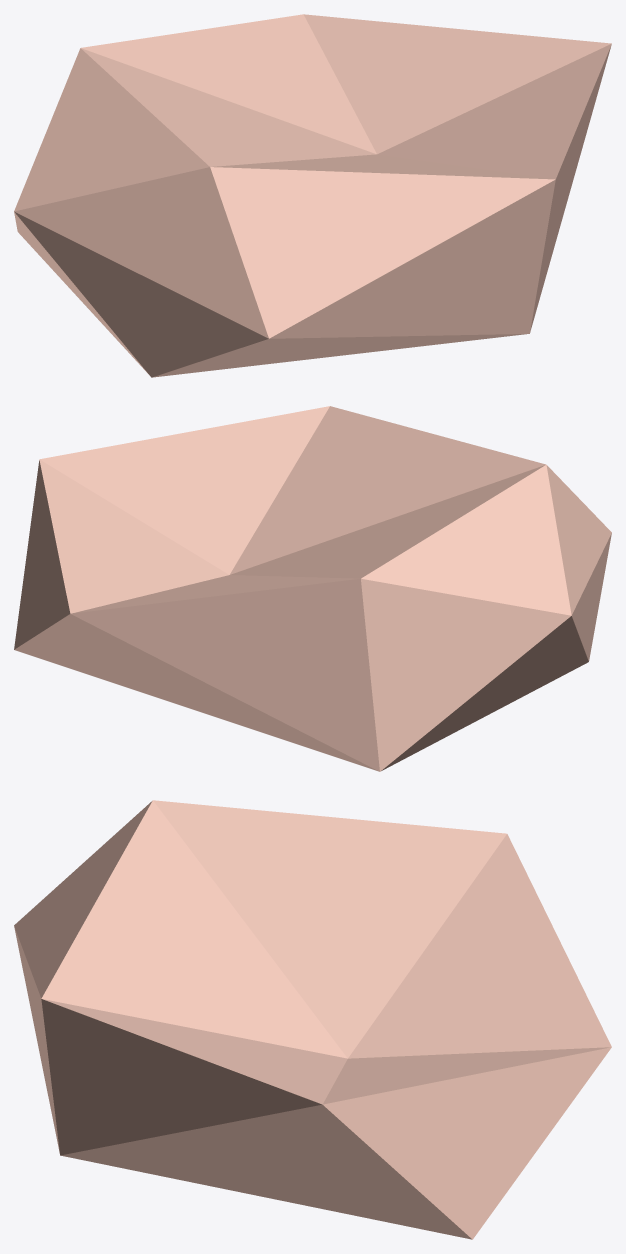
Rendered from Dough.fbx.
3 renders of one model, top to bottom at view 1: azimuth 30°, elevation 25°; view 2: azimuth 150°, elevation 25°; view 3: azimuth 270°, elevation 25°, orthographic. The views are drawn at different scales.
Visible parts, largest first — view 1: Icosphere.001; view 2: Icosphere.001; view 3: Icosphere.001.
Part boxes in pixels (x1,y1,x2,y2): Icosphere.001: (14, 14, 611, 377); Icosphere.001: (14, 406, 611, 771); Icosphere.001: (14, 800, 611, 1239).
Size of the model in its own units: 81.78 by 26.56 by 67.5.
